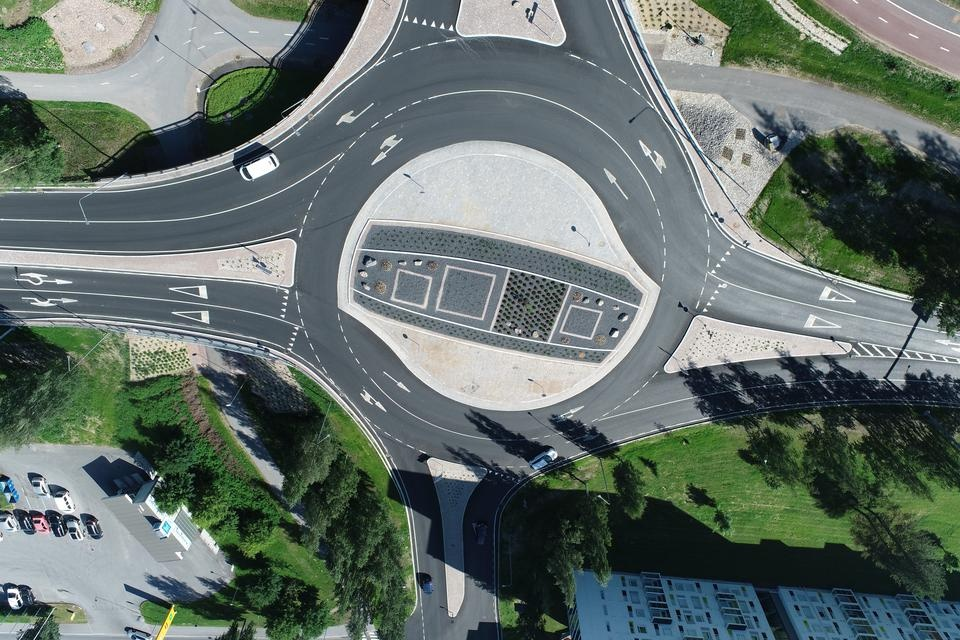roundabout: (277, 0, 739, 500)
